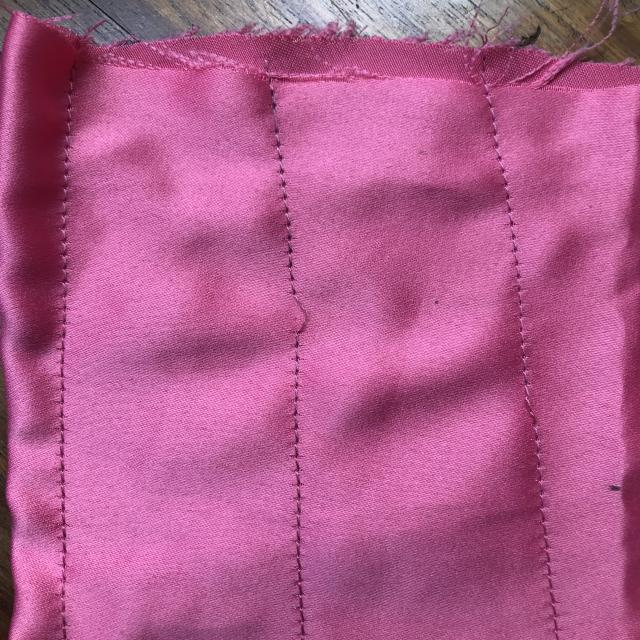skip: (281, 284, 328, 351)
